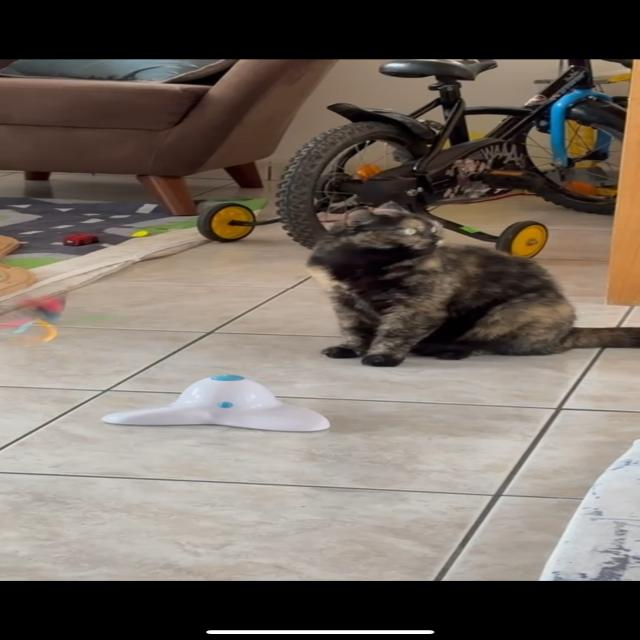authorized: (304, 200, 638, 367)
